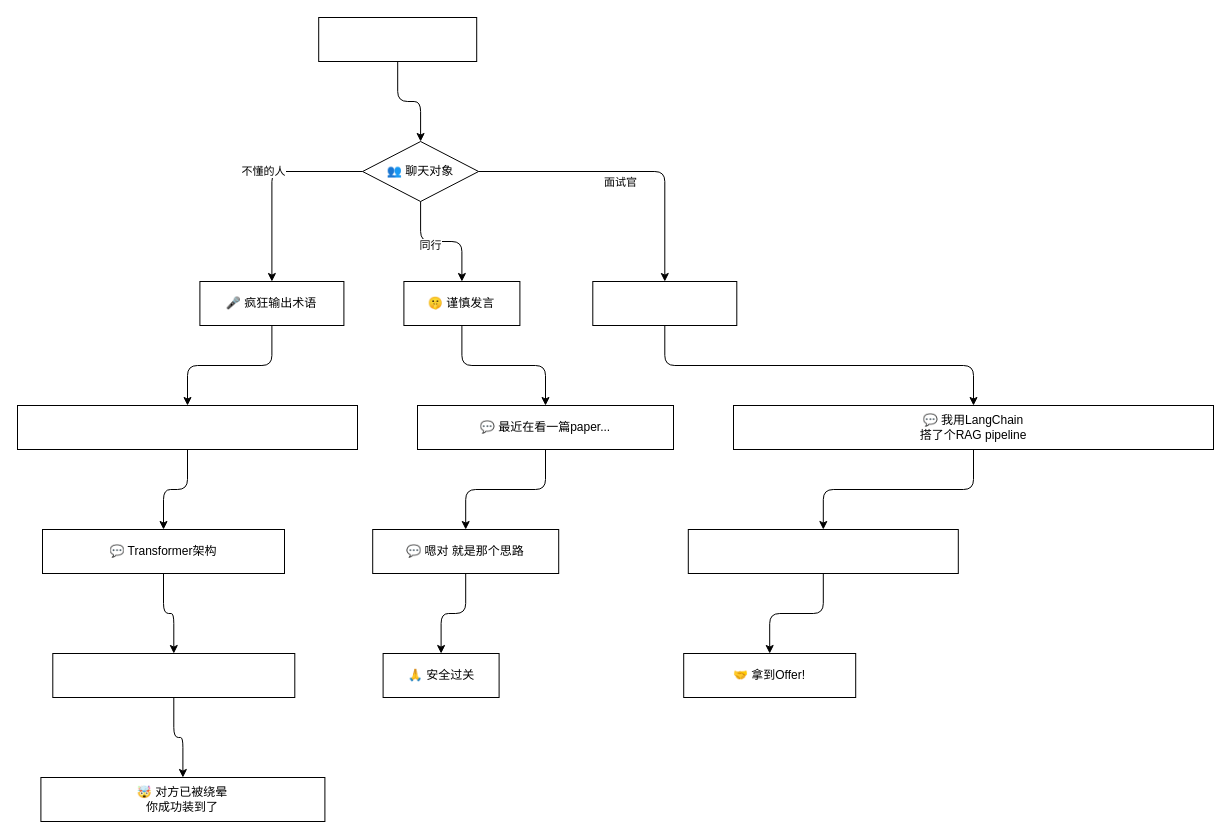
The diagram is 1231 pixels wide and 839 high, and some of its shapes have lost their labels. Here are the shapes that lost their labels. From the top down, the centre of each, then its label:
pixel 397 39: 🤖 想假装很懂AI
pixel 664 303: 😎 展示项目经验
pixel 187 427: 💬 Large Language Model
pixel 822 551: 💬 Fine-tune了Llama
pixel 173 675: 💬 涌现能力Emergence
